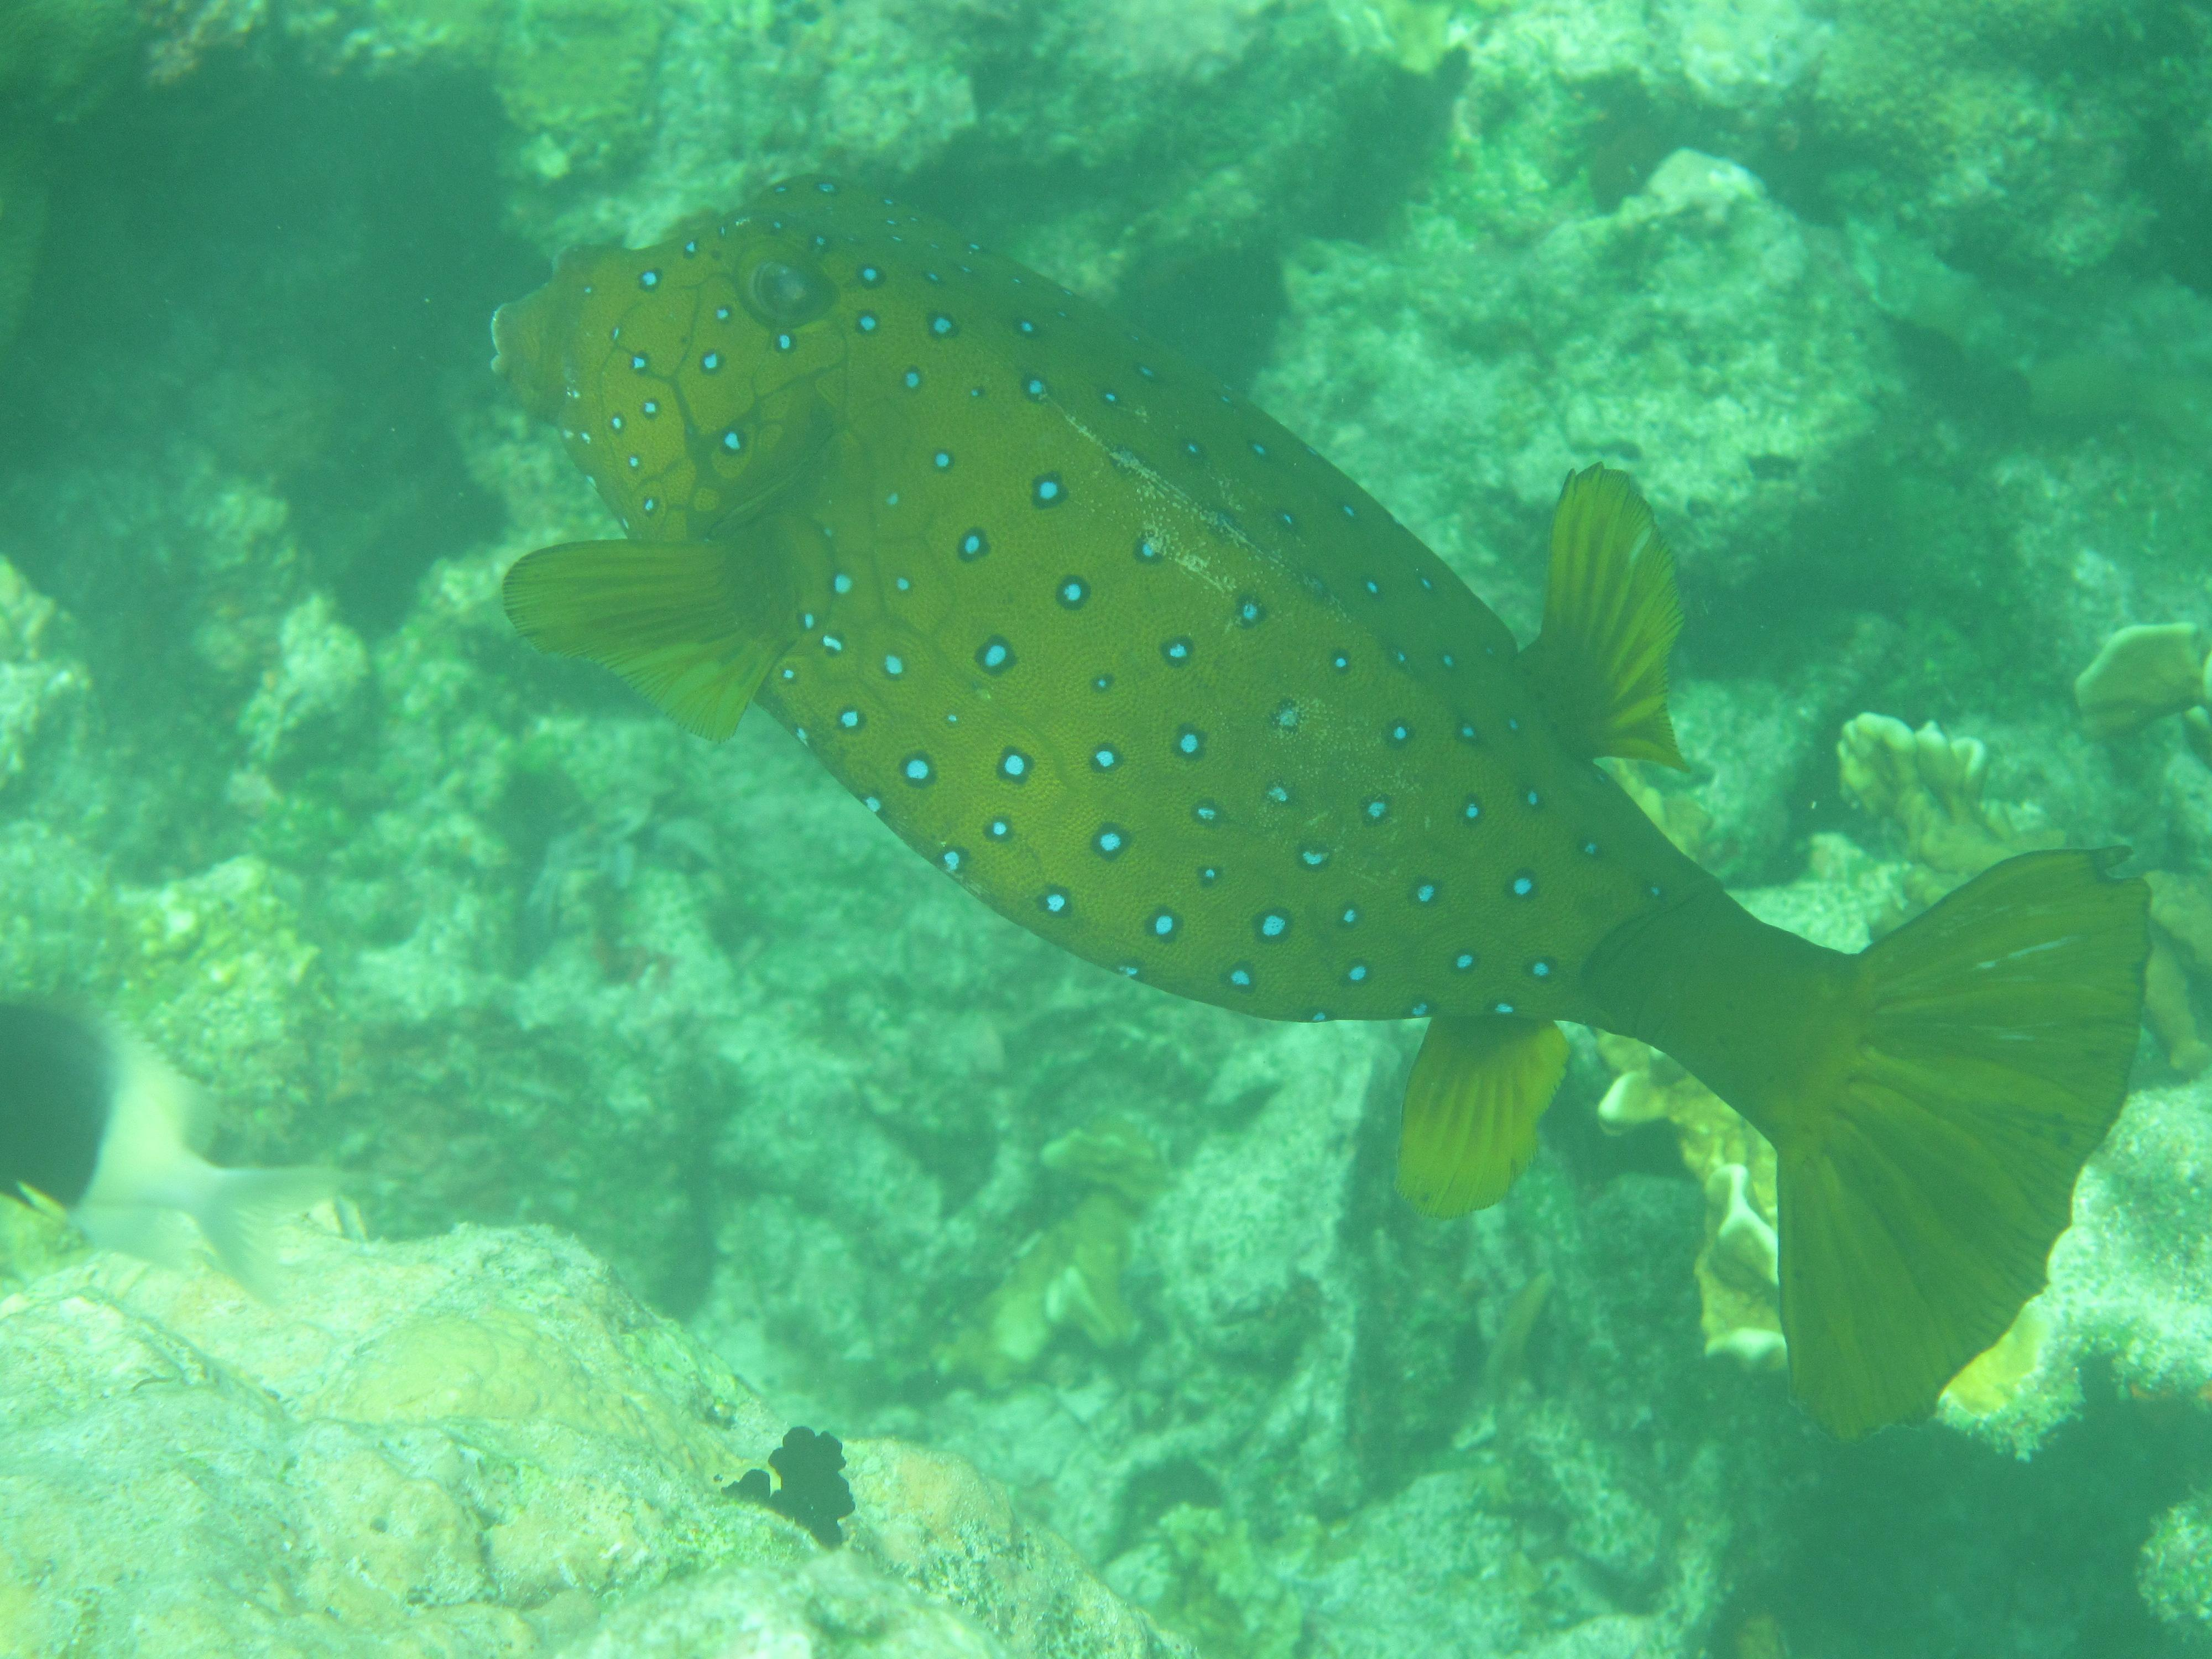Fish: (361, 98, 2195, 1486)
